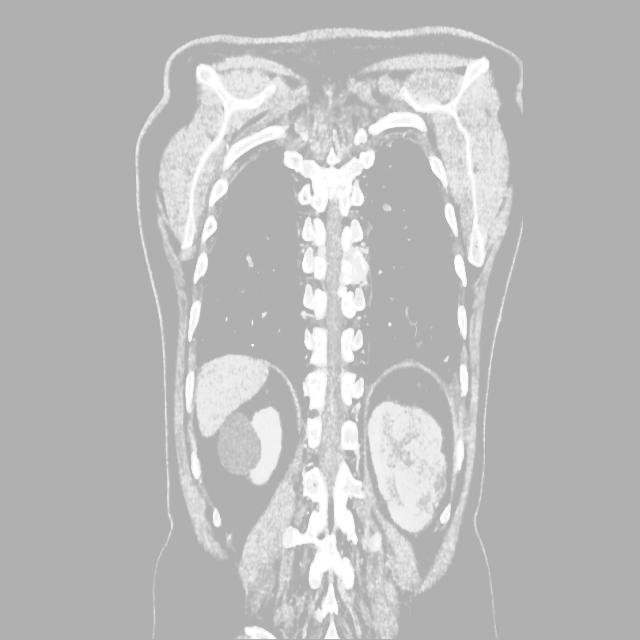TUMOR: (163, 352, 521, 588)
